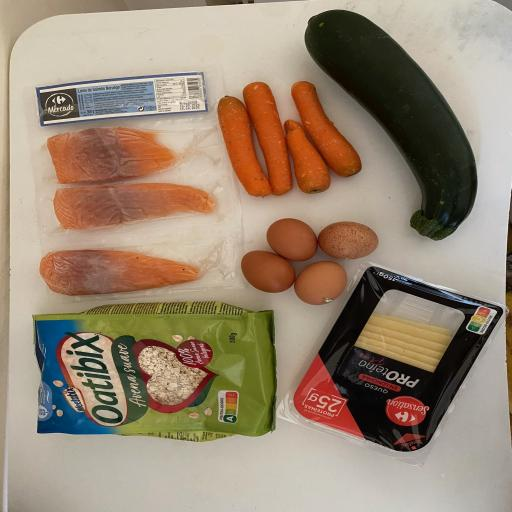carrot: (290, 77, 369, 180), (216, 92, 272, 200), (242, 77, 292, 197), (284, 117, 332, 200)
cheese: (288, 264, 506, 456)
courgette: (302, 6, 485, 246)
egg: (313, 217, 383, 263), (292, 258, 350, 309), (237, 248, 298, 296), (262, 215, 319, 263)
oat: (28, 300, 282, 443)
salmon: (48, 177, 220, 232), (41, 123, 195, 184), (36, 245, 210, 298)
